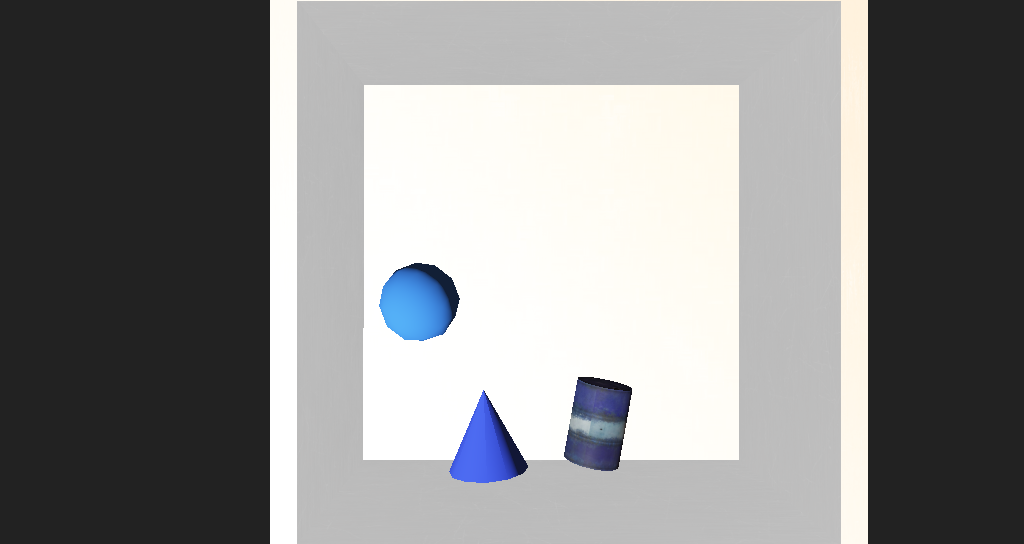cone: (515, 324, 576, 382)
cylinder: (418, 329, 485, 387)
sphere: (364, 265, 431, 308)
